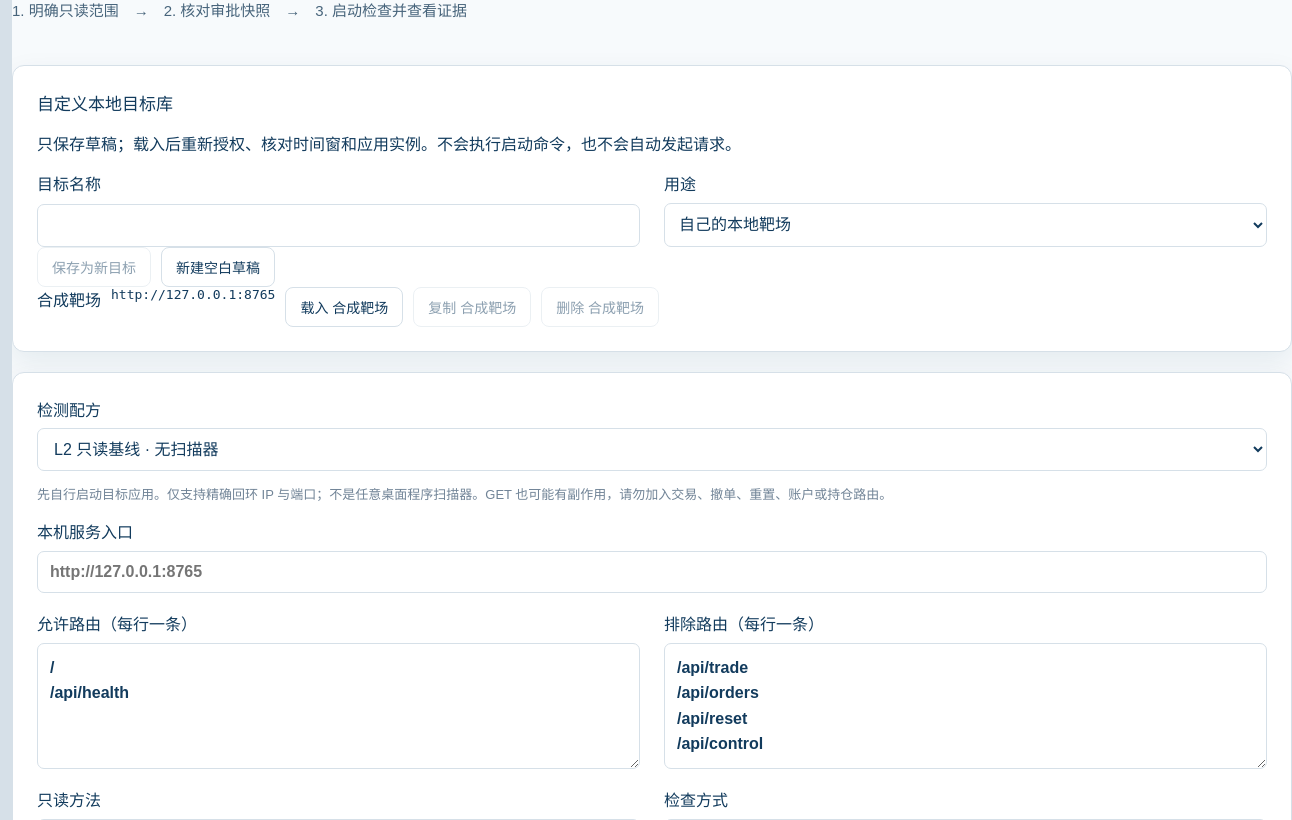
Scenario: has an in-platform draft library and loading does not enable authorization
Click the button "载入 合成靶场": [344, 307] box [285,287,403,327]
(page scrolled)
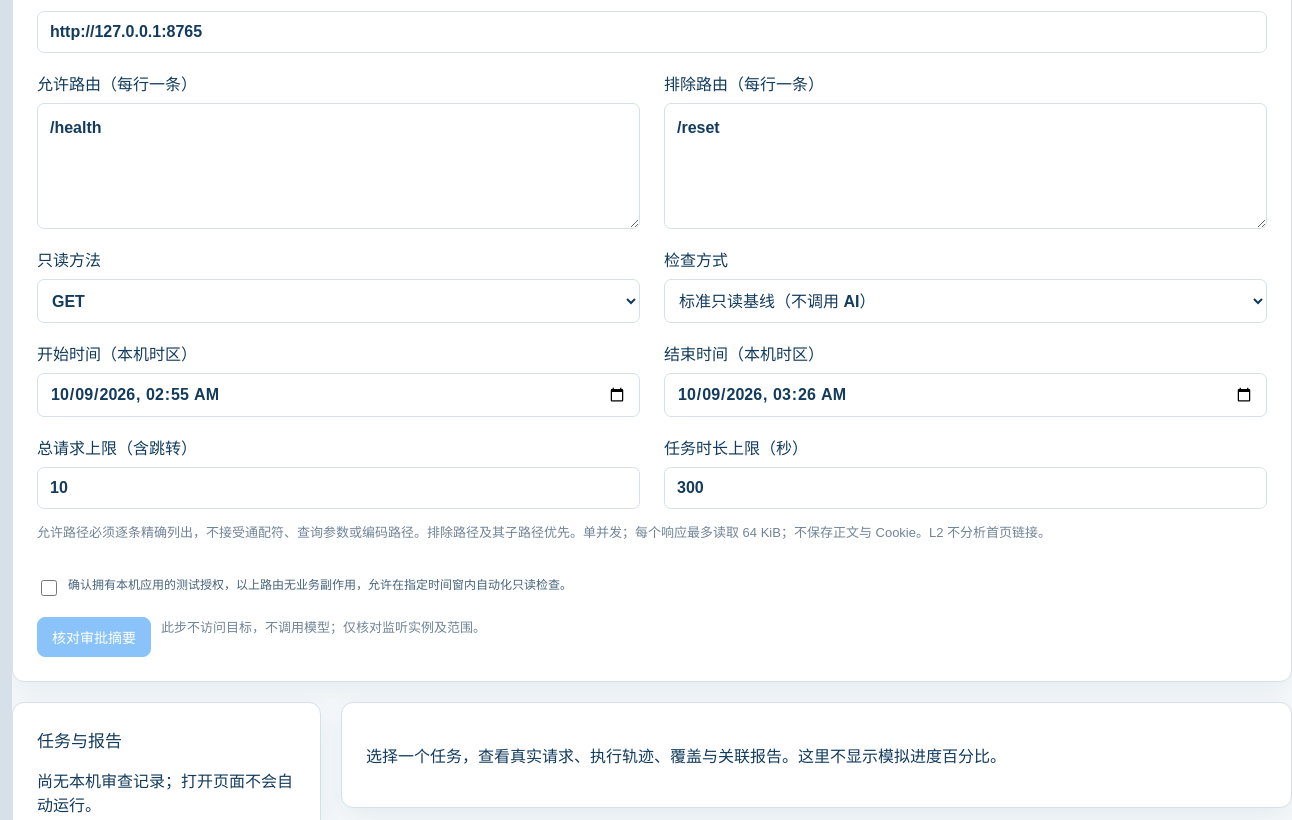
Expected: the checkbox labelled "确认拥有本机应用的测试授权，以上路由无业务副作用，允许在指定时间窗内自动化只读检查。" is not checked, [41,580,57,596]
Result: the field labelled "本机服务入口" holds "http://127.0.0.1:8765" at [37,11,1267,53]
